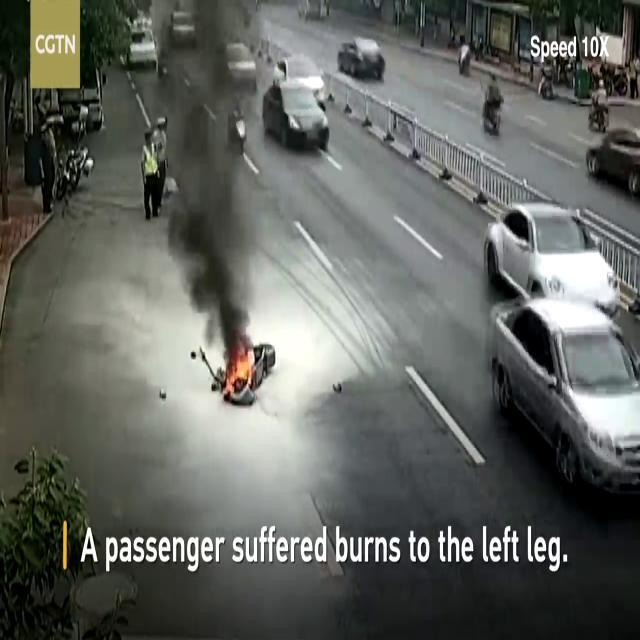Fire: (226, 343, 257, 393), (142, 146, 158, 175)
Smoke: (152, 0, 280, 349)
